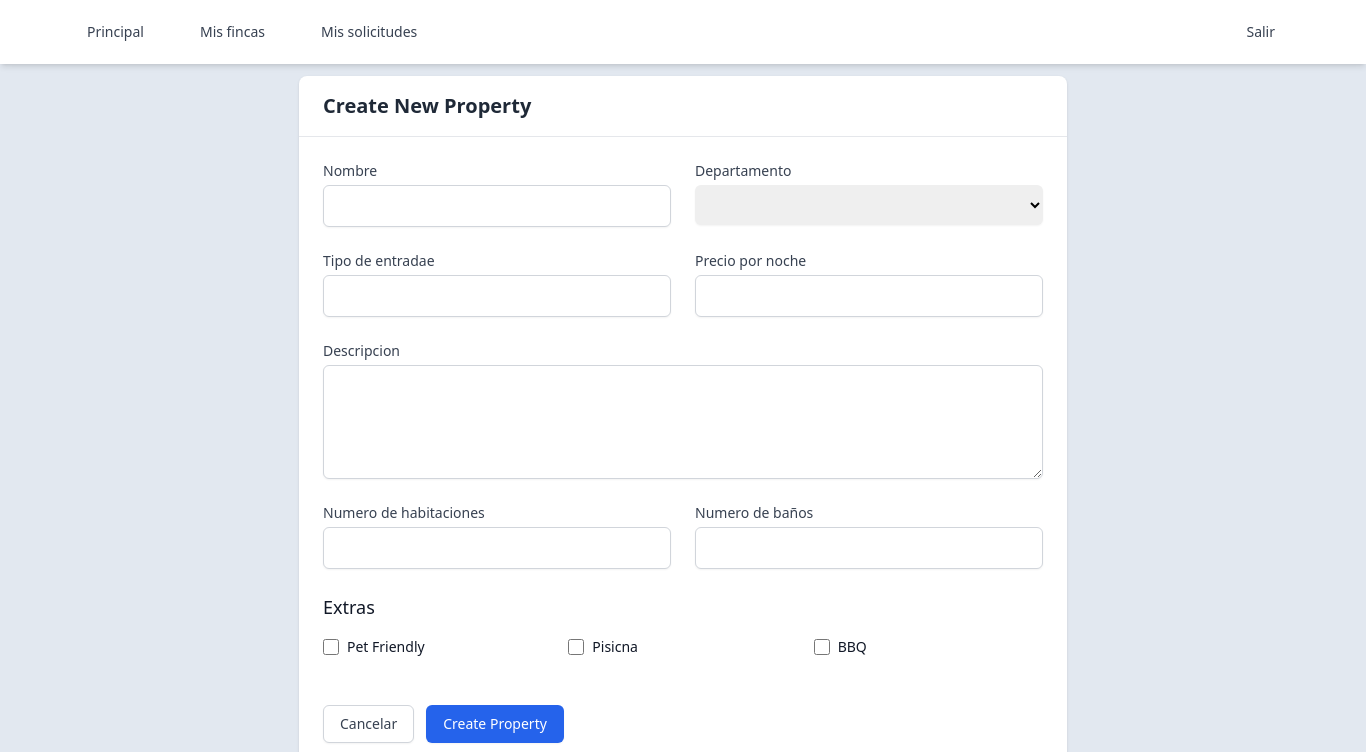
Test: Property Manager Page › Create Mode › should show validation errors for empty required fields
This screenshot has width=1366, height=752.
Click the submit button: (495, 724) 426,705 -> 564,743
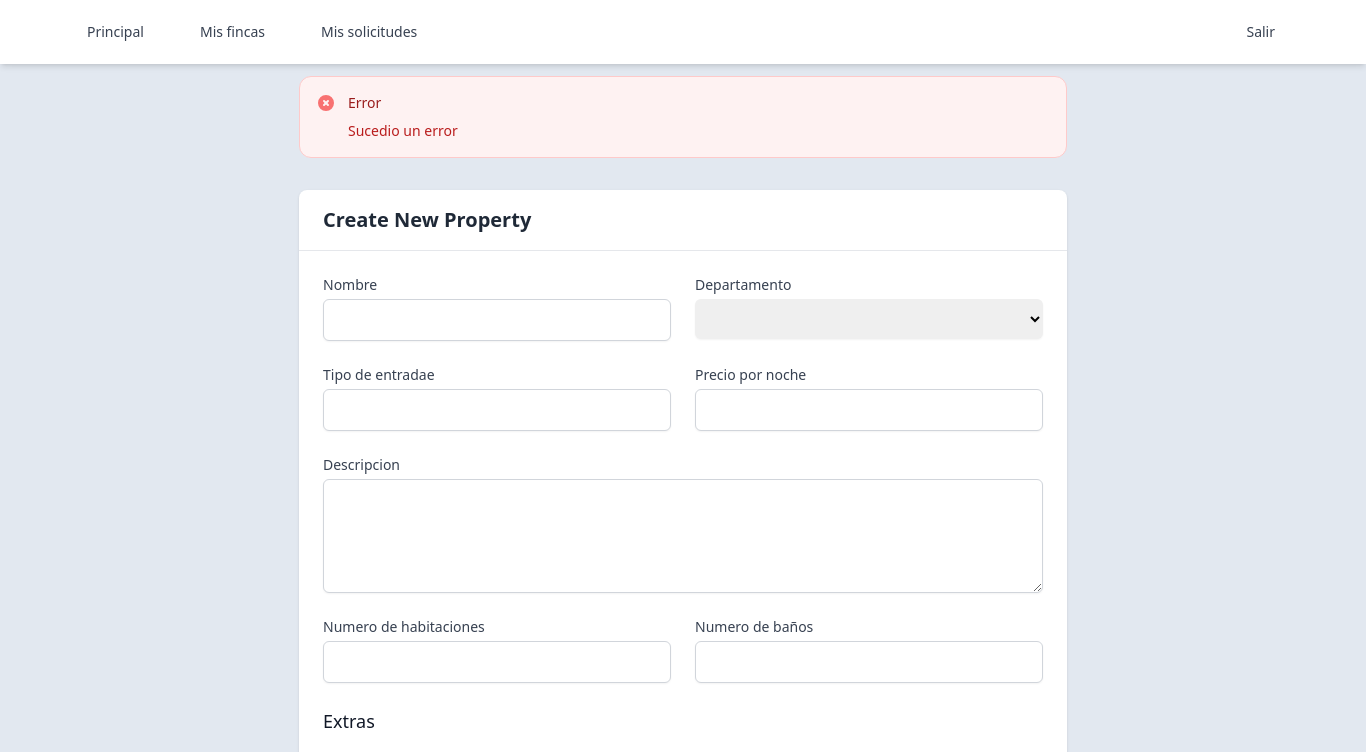
Expected: the text "Sucedio un error" is shown, 348,121 -> 458,141
